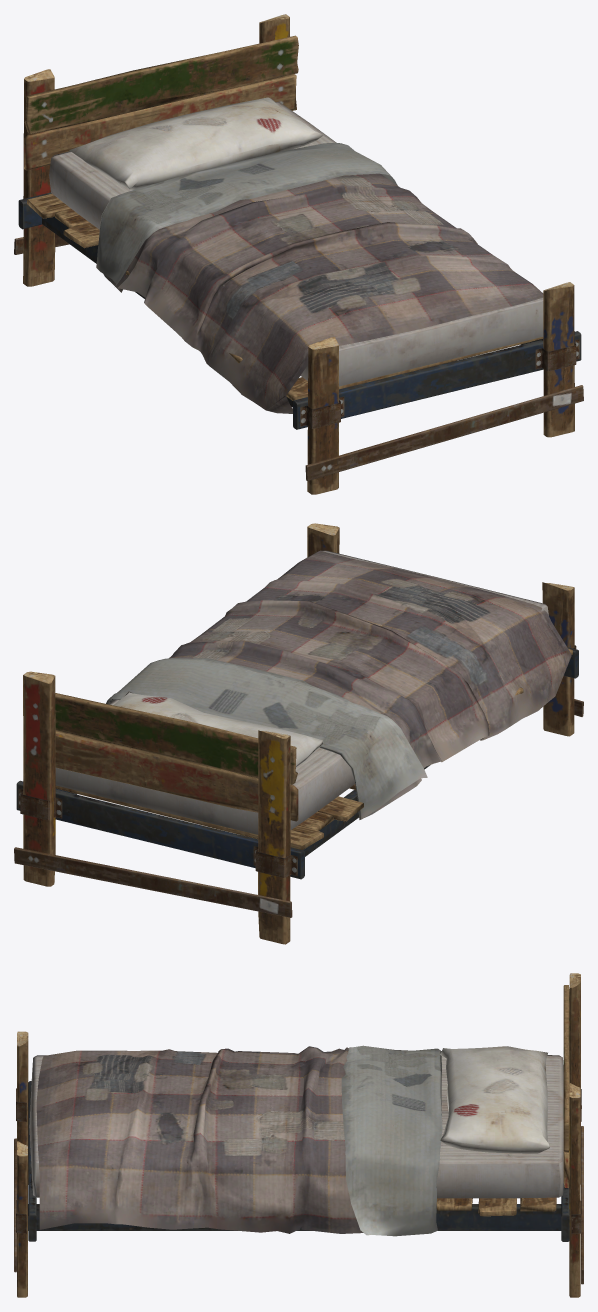
File: bed.gltf
The picture shows the model from 3 angles, top to bottom: view 1: azimuth 30°, elevation 25°; view 2: azimuth 150°, elevation 25°; view 3: azimuth 270°, elevation 25°; orthographic projection. The views are drawn at different scales.
Parts seen in each view (by area): view 1: Collection.smd; view 2: Collection.smd; view 3: Collection.smd.
Boxes of the visible parts, x1,y1,x2,y2 form: Collection.smd: (14,14,583,494); Collection.smd: (14,523,583,944); Collection.smd: (14,973,583,1297).
Bounding box in the file's own units: 1.22 × 0.7605 × 1.94.
1 material, 1 textured.
